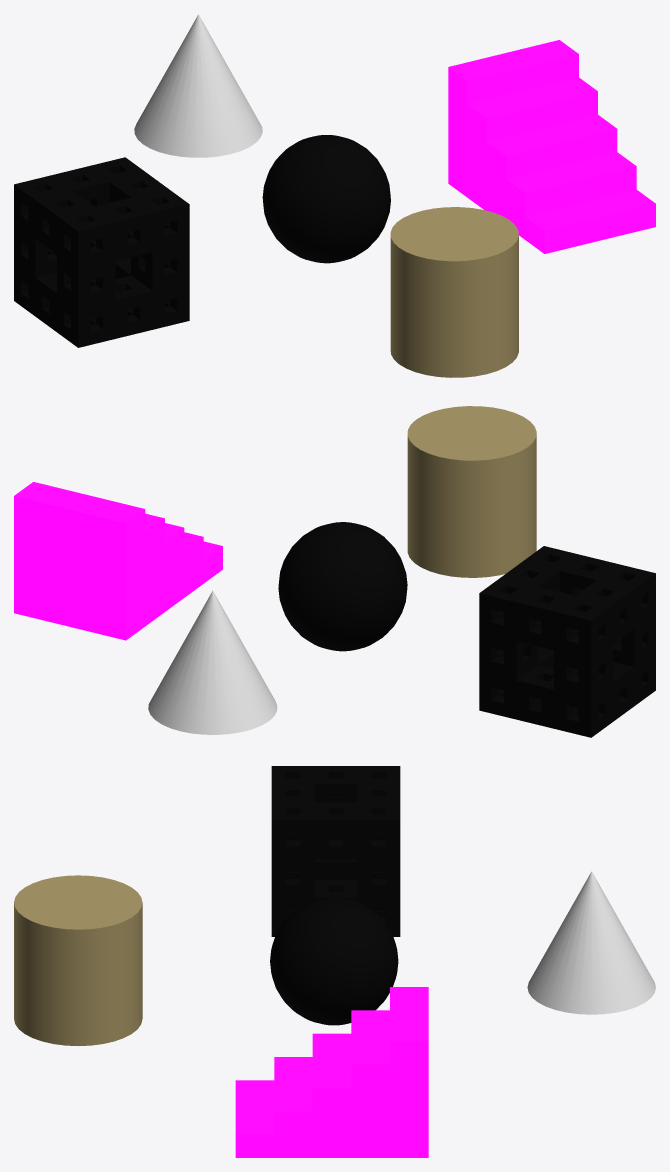
The model's file is materialTest.dae.
The picture shows the model from 3 angles, top to bottom: view 1: azimuth 30°, elevation 25°; view 2: azimuth 150°, elevation 25°; view 3: azimuth 270°, elevation 25°; orthographic projection.
Visible parts, largest first — view 1: Stair, Fractal, Cylinder, Ball, Cone; view 2: Fractal, Stair, Cylinder, Ball, Cone; view 3: Stair, Cylinder, Fractal, Ball, Cone.
Part boxes in pixels (box(x1,y1,x2,y2)): Stair: box(448, 40, 655, 253); Fractal: box(14, 157, 189, 347); Cylinder: box(390, 207, 518, 377); Ball: box(262, 135, 390, 263); Cone: box(134, 14, 262, 157); Fractal: box(479, 546, 655, 737); Stair: box(14, 482, 222, 640); Cylinder: box(407, 406, 536, 577); Ball: box(278, 522, 407, 651); Cone: box(148, 590, 277, 734); Stair: box(235, 987, 428, 1157); Cylinder: box(14, 875, 142, 1046); Fractal: box(271, 766, 400, 936); Ball: box(270, 897, 398, 1025); Cone: box(527, 871, 655, 1014).
Size of the model in its own units: 5.03 by 1.29 by 5.
